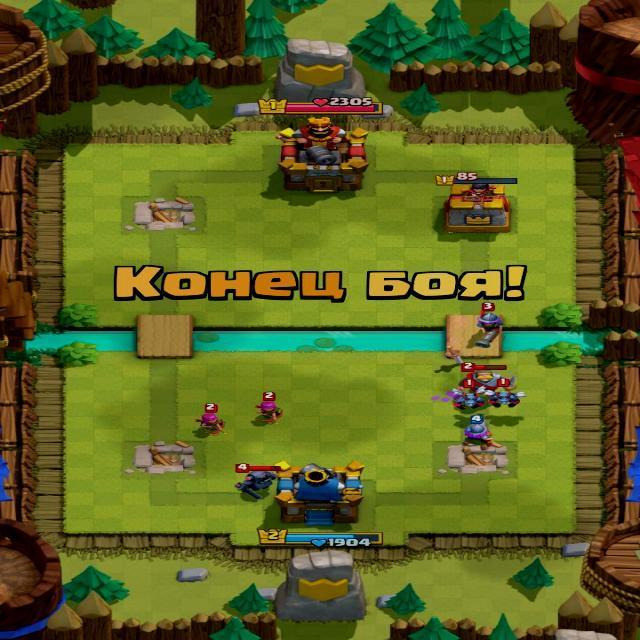EArcher: (198, 408, 225, 436), (258, 399, 281, 418)
EKingTower: (280, 125, 368, 188)
EKnight: (467, 373, 498, 392)
EMiniPeka: (240, 469, 274, 499)
EMusk: (475, 312, 510, 337)
EnemyPrincessTower: (450, 183, 514, 232)
OMusk: (462, 422, 490, 444)
OwnKingTower: (279, 465, 364, 522)
TowerDown: (425, 436, 524, 480), (119, 434, 208, 481), (121, 194, 209, 239)
eminion: (453, 394, 481, 411), (492, 393, 517, 406)
